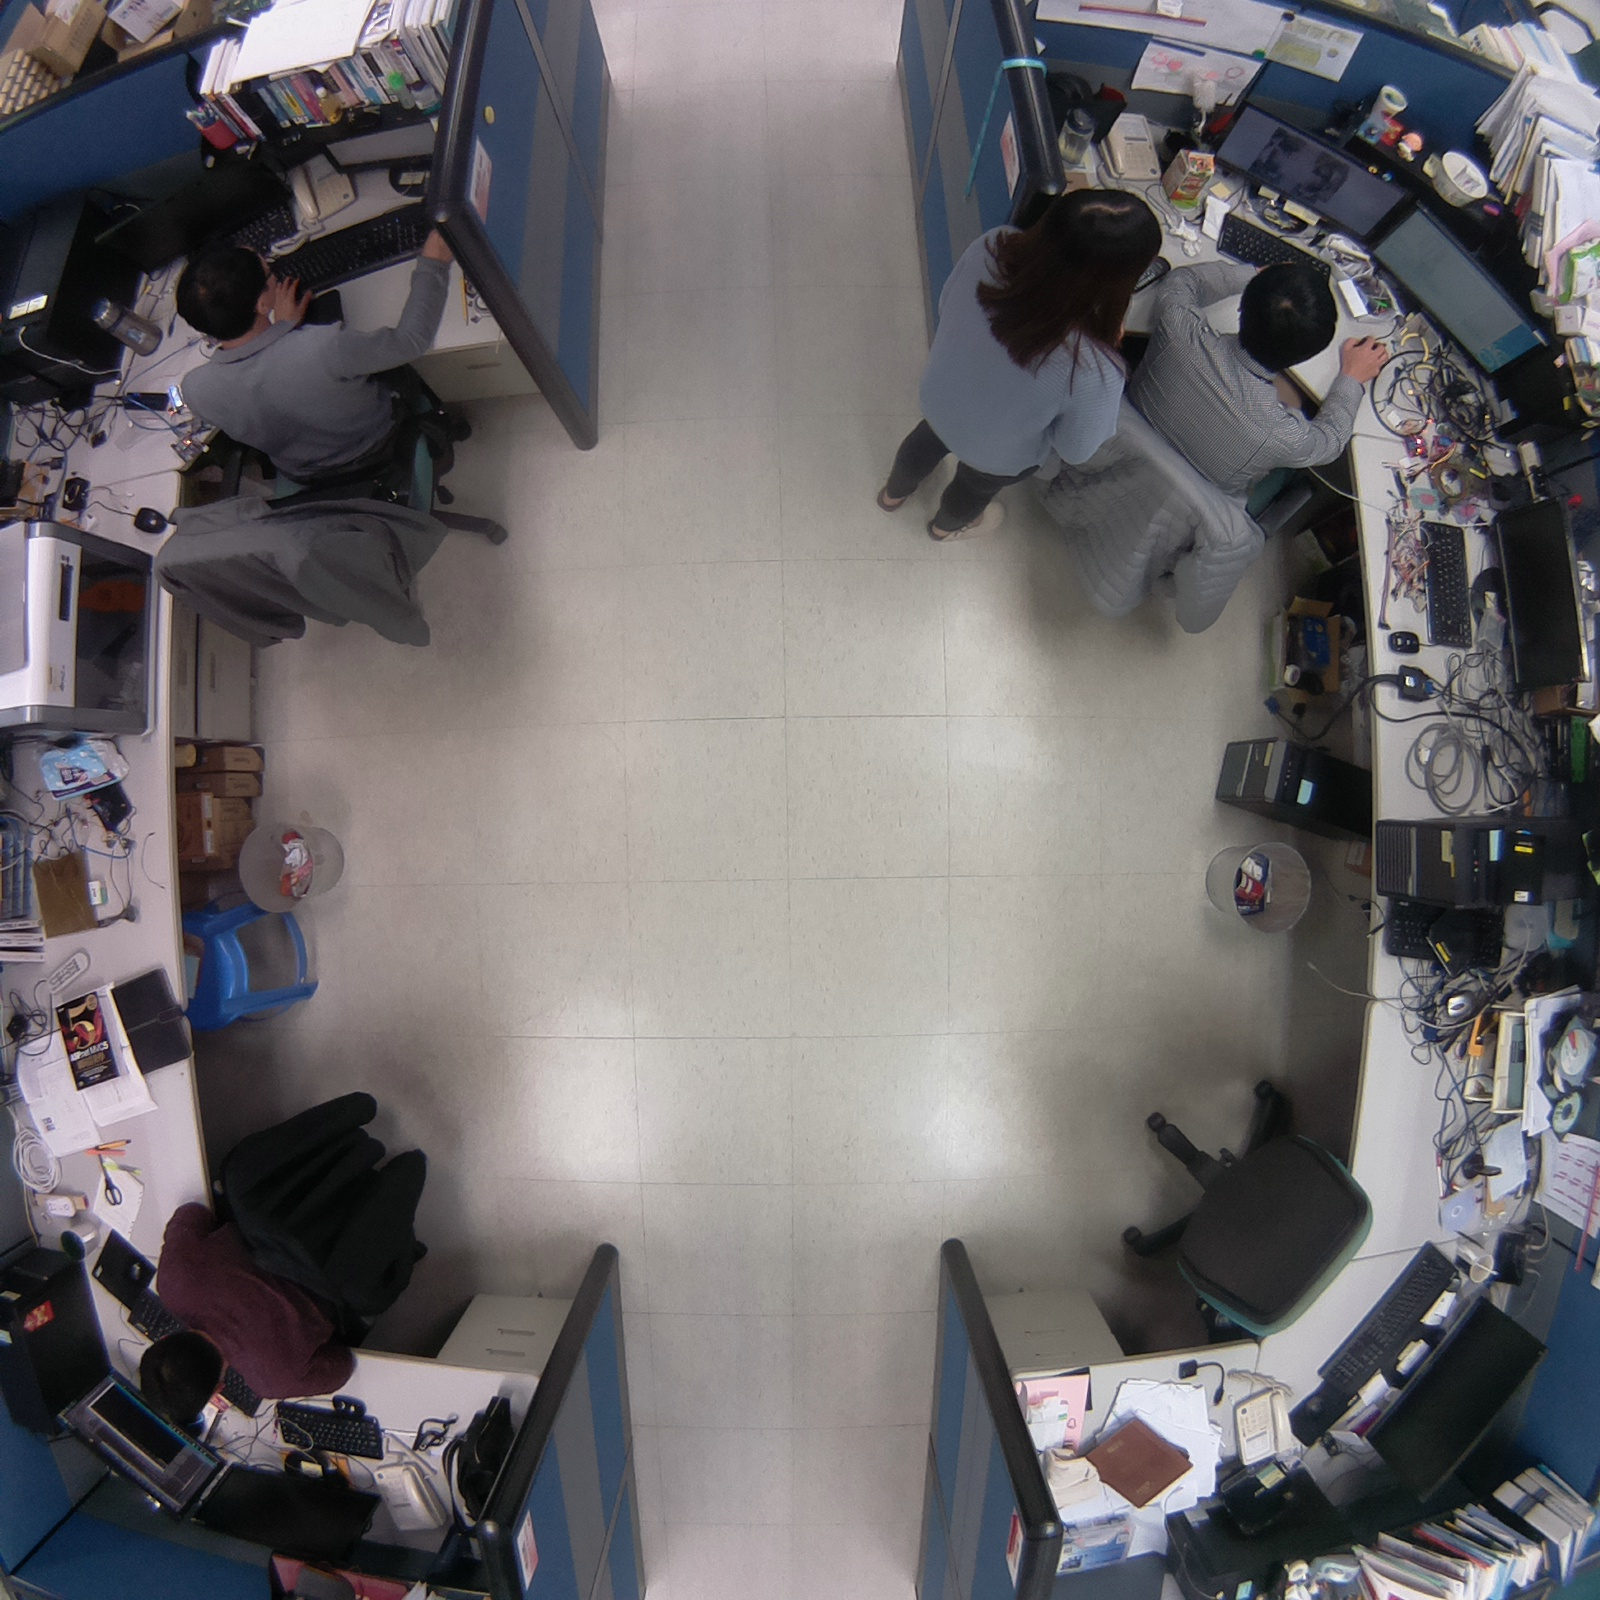chair: (1111, 1055, 1395, 1360)
sitting: (157, 210, 470, 500), (1146, 233, 1404, 535), (120, 1178, 377, 1445)
standing: (844, 164, 1179, 558)
